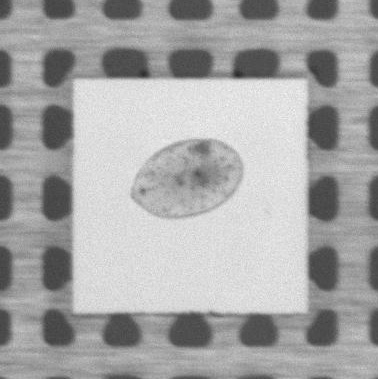DIE_INK: (122, 132, 251, 227)
